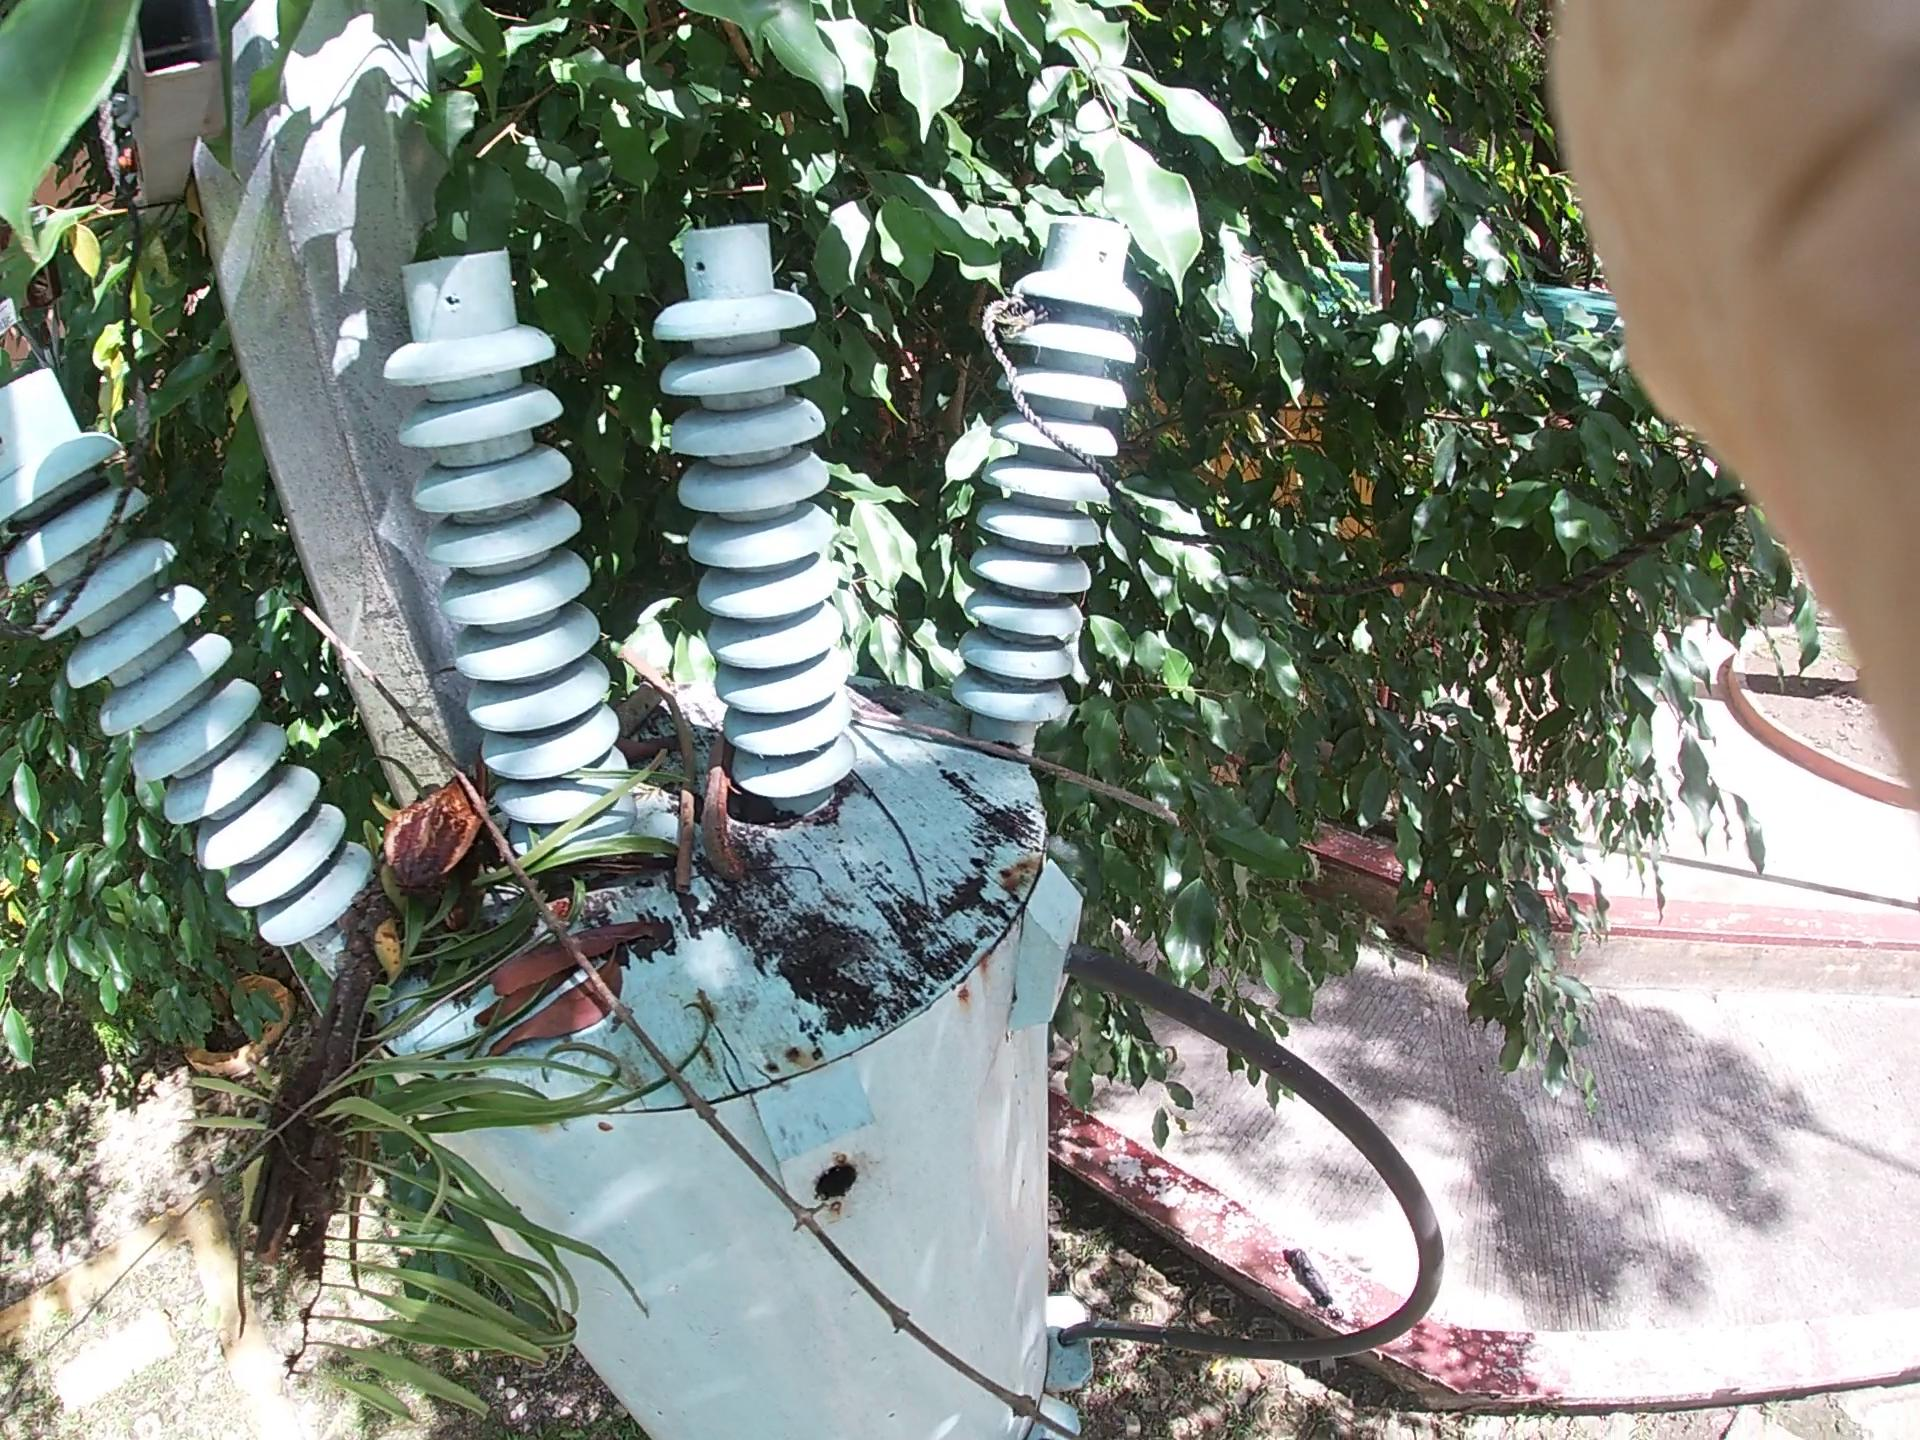branch with leaves: (254, 523, 655, 1274)
leaf: (472, 900, 774, 1128)
mahogany fruit: (650, 640, 804, 942), (363, 711, 537, 948)
tree branch: (328, 664, 816, 1321), (794, 700, 1237, 915), (603, 669, 712, 846)
